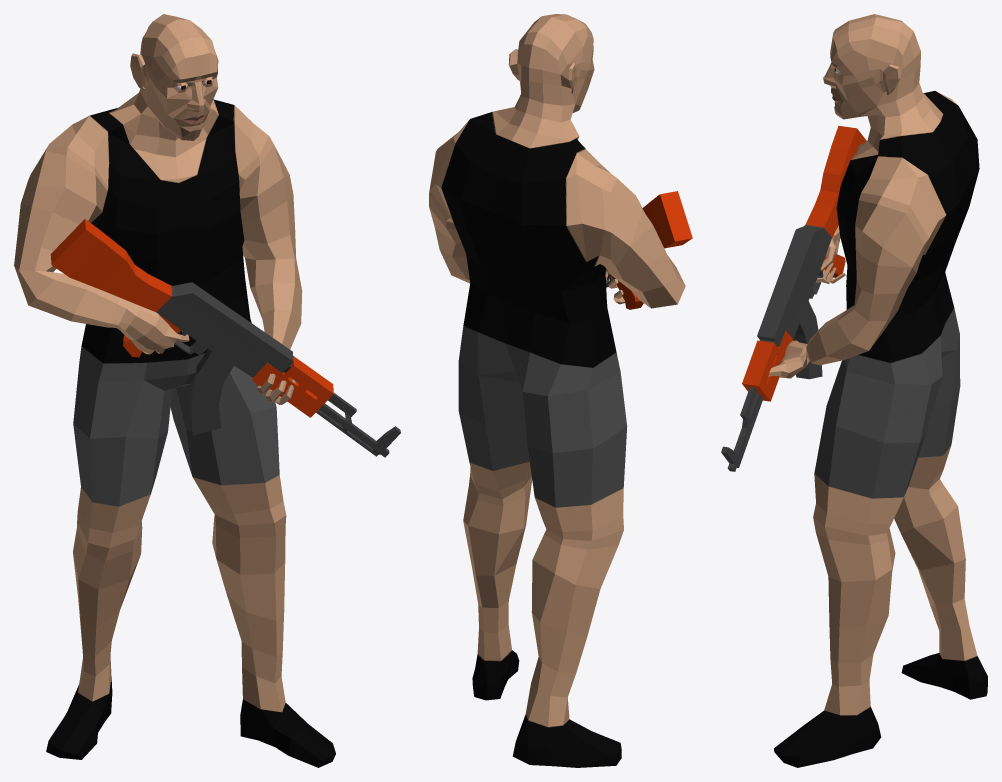
The model's file is PlayerIdle(13).obj.
3 renders of one model, left to right at view 1: azimuth 30°, elevation 25°; view 2: azimuth 150°, elevation 25°; view 3: azimuth 270°, elevation 25°, orthographic. The views are drawn at different scales.
Visible parts, largest first — view 1: Plane002, Object001; view 2: Plane002, Object001; view 3: Plane002, Object001.
Boxes of the visible parts, x1=… form: Plane002: x1=14, y1=14, x2=335, y2=767; Object001: x1=50, y1=219, x2=400, y2=457; Plane002: x1=429, y1=14, x2=685, y2=767; Object001: x1=605, y1=191, x2=692, y2=309; Plane002: x1=768, y1=14, x2=987, y2=767; Object001: x1=721, y1=125, x2=866, y2=471.
Size of the model in its own units: 746 by 1808 by 628.
